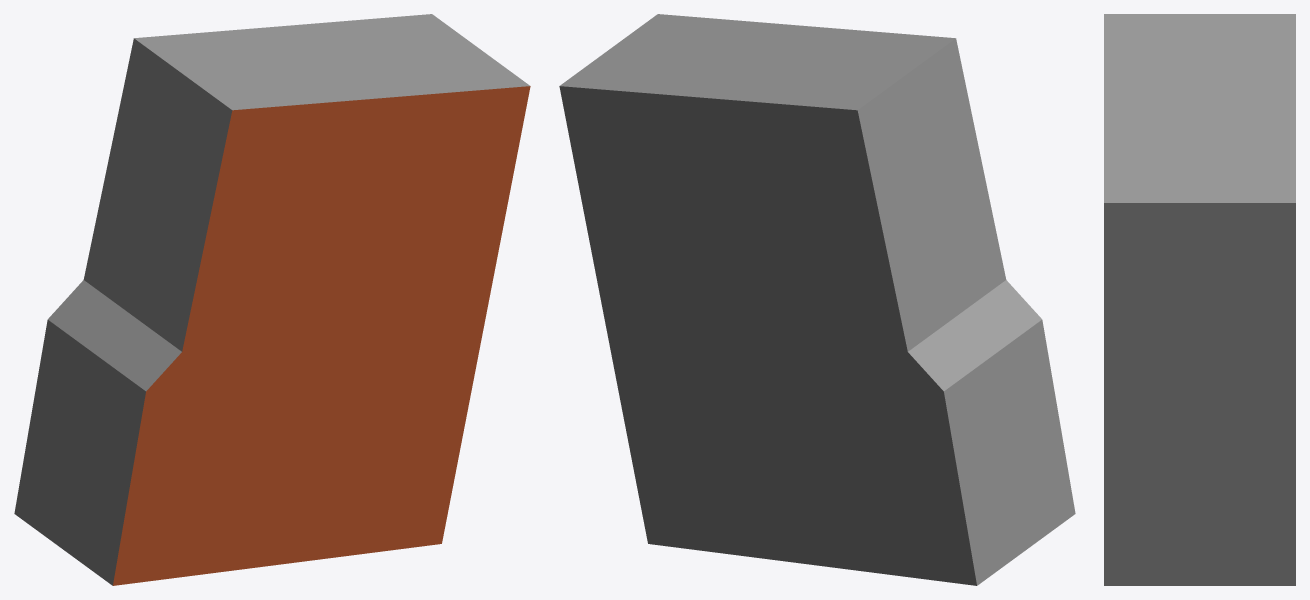
The model's file is construction_7179_assumed_A_Ruinas_h6m.obj.
3 renders of one model, left to right at view 1: azimuth 30°, elevation 25°; view 2: azimuth 150°, elevation 25°; view 3: azimuth 270°, elevation 25°, orthographic. The views are drawn at different scales.
Parts seen in each view (by area): view 1: construction_7179_assumed_A_Ruinas; view 2: construction_7179_assumed_A_Ruinas; view 3: construction_7179_assumed_A_Ruinas.
Part boxes in pixels (left/top/right/bottom): construction_7179_assumed_A_Ruinas: left=14, top=14, right=530, bottom=585; construction_7179_assumed_A_Ruinas: left=559, top=14, right=1075, bottom=585; construction_7179_assumed_A_Ruinas: left=1104, top=14, right=1295, bottom=585.
Size of the model in its own units: 14.69 by 16.29 by 6.
